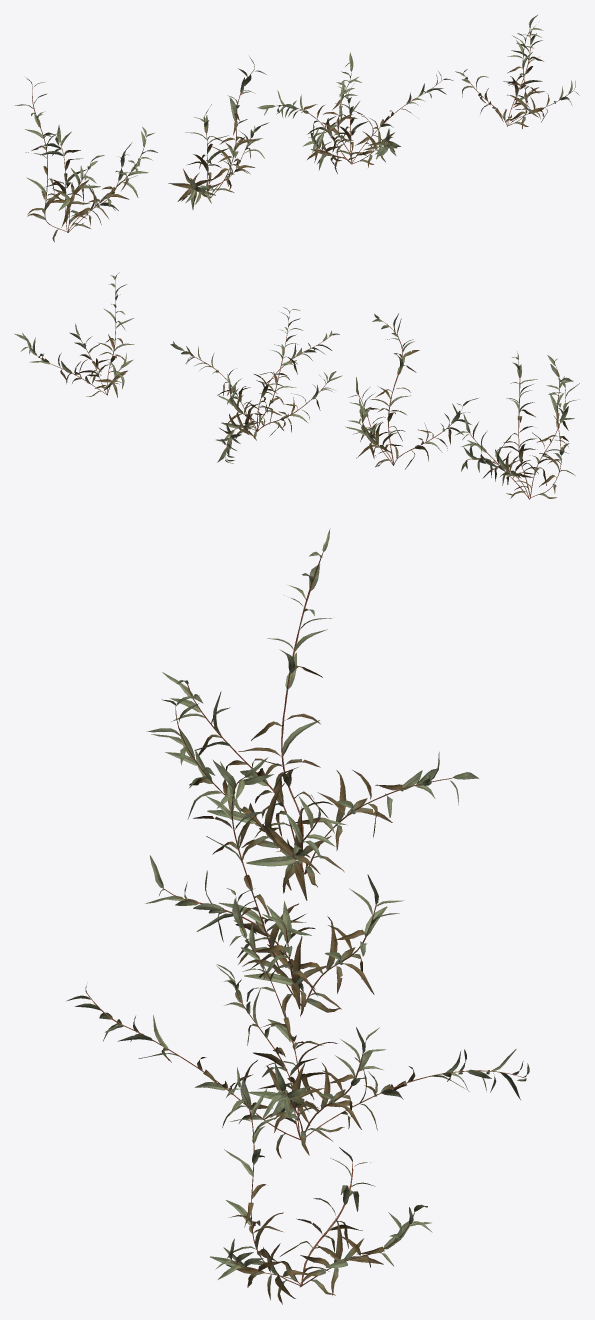
File: shrub_02.glb
3 renders of one model, top to bottom at view 1: azimuth 30°, elevation 25°; view 2: azimuth 150°, elevation 25°; view 3: azimuth 270°, elevation 25°, orthographic. The views are drawn at different scales.
Parts seen in each view (by area): view 1: shrub_02_c, shrub_02_a, shrub_02_b, shrub_02_d; view 2: shrub_02_a, shrub_02_c, shrub_02_b, shrub_02_d; view 3: shrub_02_a, shrub_02_c, shrub_02_b, shrub_02_d.
Boxes of the visible parts, bbox=[...] form: shrub_02_c: bbox=[257, 52, 453, 173]; shrub_02_a: bbox=[15, 78, 157, 242]; shrub_02_b: bbox=[168, 56, 268, 209]; shrub_02_d: bbox=[455, 15, 579, 128]; shrub_02_a: bbox=[455, 351, 579, 499]; shrub_02_c: bbox=[170, 307, 342, 463]; shrub_02_b: bbox=[345, 313, 478, 469]; shrub_02_d: bbox=[14, 272, 134, 397]; shrub_02_a: bbox=[146, 528, 478, 900]; shrub_02_c: bbox=[67, 888, 529, 1158]; shrub_02_b: bbox=[145, 757, 404, 1017]; shrub_02_d: bbox=[210, 1067, 432, 1304].
Size of the model in its own units: 6.05 by 1.7 by 2.29.
Materials: 1 (1 with a texture image).
